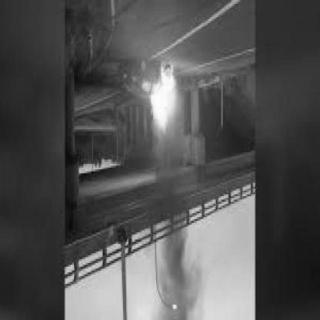Fire: (121, 54, 193, 158)
Smoke: (152, 146, 192, 318)
